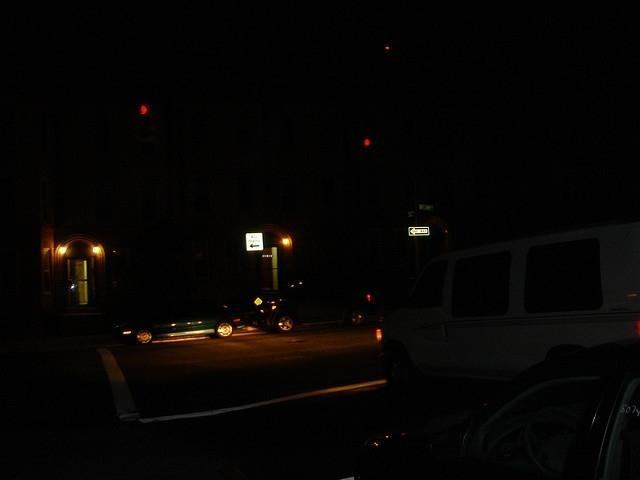car: (255, 281, 372, 336), (115, 301, 252, 345)
